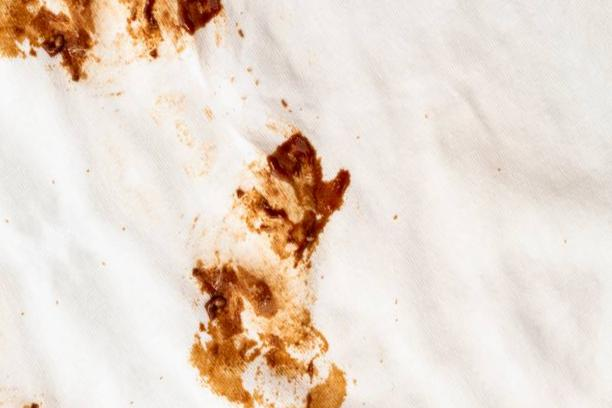stain: (189, 127, 362, 406), (2, 0, 239, 79)
